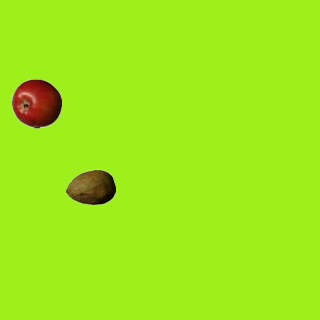Apple Braeburn: (11, 78, 61, 128)
Papaya: (65, 162, 115, 212)
